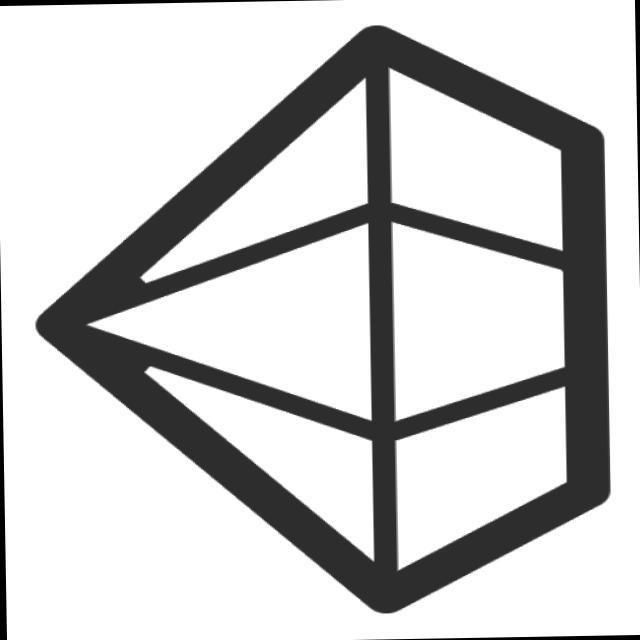diamond: (20, 8, 619, 628)
